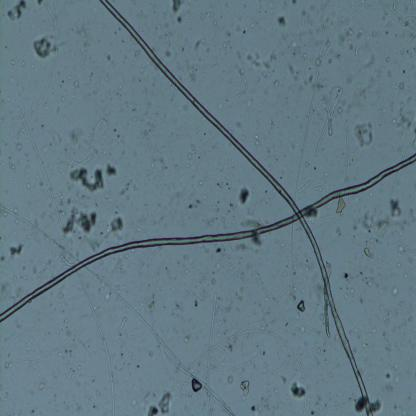Air bubble: (191, 380, 203, 394)
Background material: (63, 207, 100, 235), (69, 168, 106, 192), (145, 389, 174, 416), (361, 211, 390, 238), (398, 102, 416, 142), (248, 52, 280, 72), (353, 120, 375, 148), (33, 33, 57, 58), (319, 229, 341, 252), (315, 394, 335, 416), (6, 6, 30, 23), (77, 25, 90, 56), (65, 126, 83, 148), (356, 395, 380, 411), (108, 214, 126, 235), (321, 304, 332, 338), (288, 381, 308, 399), (184, 56, 199, 80), (304, 212, 334, 224), (388, 196, 403, 220), (88, 116, 104, 138), (237, 184, 251, 209), (300, 10, 318, 29), (389, 81, 411, 96), (343, 57, 354, 86), (240, 216, 264, 229), (286, 62, 300, 83), (161, 33, 171, 62), (239, 378, 252, 400), (192, 36, 208, 52), (276, 11, 290, 29), (0, 277, 11, 298), (390, 220, 406, 234), (230, 240, 248, 252), (171, 299, 182, 318), (361, 276, 377, 289), (9, 244, 25, 257), (106, 163, 118, 180), (142, 119, 154, 136), (366, 51, 376, 71), (336, 197, 347, 215), (288, 41, 302, 55), (31, 264, 44, 279), (173, 8, 184, 25), (62, 316, 70, 338), (178, 251, 191, 264), (380, 110, 391, 125), (54, 188, 65, 203), (252, 236, 265, 248), (362, 245, 372, 260), (398, 242, 408, 257), (147, 298, 157, 313), (390, 282, 400, 297), (62, 366, 74, 378), (278, 371, 288, 385), (208, 12, 218, 26), (407, 207, 416, 222), (105, 52, 116, 64), (335, 34, 346, 46), (304, 73, 314, 86), (189, 200, 202, 210), (233, 48, 242, 62), (28, 78, 39, 89), (247, 402, 257, 414), (380, 0, 392, 10), (180, 332, 190, 344), (195, 272, 205, 284), (325, 260, 332, 276), (334, 48, 342, 62), (398, 43, 405, 59), (213, 100, 222, 112), (368, 236, 380, 245), (357, 27, 365, 39), (226, 373, 234, 385), (345, 26, 353, 38), (297, 299, 304, 312), (287, 141, 296, 151), (384, 384, 394, 393), (371, 30, 382, 38), (203, 220, 214, 228), (62, 348, 73, 356), (9, 57, 17, 68), (268, 117, 275, 129), (306, 259, 313, 271), (301, 50, 309, 60), (350, 392, 358, 402), (356, 267, 364, 277), (344, 270, 350, 283), (337, 105, 344, 116), (408, 49, 414, 61), (242, 25, 250, 34), (289, 292, 298, 300), (293, 264, 299, 276), (236, 115, 242, 127), (66, 192, 72, 204), (314, 344, 321, 354), (4, 363, 14, 370), (210, 276, 217, 286), (18, 273, 28, 280), (273, 78, 279, 89), (35, 0, 43, 8), (384, 344, 392, 352), (382, 314, 390, 322), (377, 302, 384, 311), (401, 66, 408, 75), (182, 268, 191, 275), (348, 38, 353, 50), (227, 342, 233, 352), (385, 370, 391, 380), (246, 98, 252, 108), (139, 65, 145, 75), (402, 271, 408, 281), (129, 106, 137, 113), (407, 316, 414, 324), (298, 325, 305, 333), (9, 164, 17, 171), (236, 23, 242, 32), (358, 297, 364, 306), (53, 397, 59, 406), (216, 206, 222, 215), (74, 80, 80, 89), (365, 373, 371, 382), (46, 260, 52, 269), (16, 143, 22, 152), (38, 381, 44, 390), (254, 134, 258, 147), (382, 14, 387, 24), (88, 68, 93, 78), (222, 41, 227, 51), (310, 408, 316, 416), (58, 289, 64, 297), (200, 13, 206, 21), (319, 93, 325, 101), (29, 62, 35, 70), (260, 347, 266, 355), (193, 300, 199, 308), (35, 173, 41, 181), (216, 248, 222, 256), (26, 344, 32, 352), (12, 272, 18, 280), (134, 49, 139, 58), (103, 73, 108, 82), (5, 129, 10, 138), (394, 373, 398, 384), (396, 262, 402, 269), (66, 73, 71, 81), (244, 280, 249, 288), (22, 263, 27, 271), (382, 331, 387, 339), (216, 263, 221, 271), (65, 404, 70, 412), (90, 375, 95, 383), (59, 166, 64, 174), (324, 358, 330, 364), (118, 80, 122, 89), (228, 202, 234, 208), (198, 180, 204, 186), (393, 402, 397, 411), (364, 342, 370, 348), (139, 260, 145, 266), (0, 256, 6, 262), (353, 223, 358, 230), (13, 207, 18, 214), (113, 126, 117, 134), (134, 398, 138, 406), (21, 60, 25, 68), (42, 123, 46, 131), (324, 170, 328, 178), (259, 404, 263, 412), (388, 70, 392, 78), (120, 350, 124, 358), (117, 332, 121, 340), (291, 0, 297, 5), (69, 94, 75, 99), (263, 218, 269, 223), (202, 194, 207, 200), (227, 33, 233, 38), (354, 327, 359, 333), (3, 394, 9, 399), (26, 183, 32, 188), (392, 118, 396, 125), (116, 134, 121, 139), (62, 96, 66, 102), (305, 160, 309, 166), (344, 294, 348, 300), (346, 246, 350, 252), (328, 58, 332, 64), (280, 175, 284, 181), (250, 22, 254, 28), (90, 405, 96, 409), (284, 322, 288, 328), (131, 60, 134, 67), (387, 56, 390, 63), (264, 188, 268, 193), (252, 189, 256, 194), (138, 77, 142, 82), (254, 182, 258, 187), (274, 156, 278, 161), (405, 49, 409, 54), (350, 289, 354, 294), (346, 286, 349, 292), (322, 346, 325, 352), (134, 365, 140, 368), (118, 26, 121, 32), (7, 96, 10, 102), (338, 286, 342, 290), (386, 31, 390, 35), (31, 410, 35, 414), (347, 283, 351, 287), (217, 182, 220, 187), (284, 95, 287, 100), (30, 338, 33, 343), (61, 79, 63, 85), (358, 197, 360, 203), (228, 186, 231, 190), (228, 209, 230, 215), (370, 192, 373, 196), (364, 240, 368, 243), (28, 354, 30, 360), (114, 31, 116, 36), (217, 200, 219, 205), (373, 329, 375, 334), (267, 150, 270, 153), (314, 166, 316, 170), (226, 182, 228, 186), (49, 142, 51, 146), (368, 230, 370, 234), (353, 234, 355, 237), (352, 159, 354, 161)
Glass filter fibre: (119, 292, 230, 412), (193, 333, 307, 416), (14, 110, 70, 254), (296, 2, 334, 182), (79, 280, 118, 416), (0, 204, 75, 260), (8, 58, 60, 122), (314, 85, 343, 158), (206, 291, 215, 416), (259, 291, 287, 325), (185, 133, 220, 157), (344, 120, 352, 188), (233, 64, 248, 100), (400, 12, 416, 43), (44, 0, 58, 34), (69, 150, 99, 165), (403, 134, 416, 162), (13, 123, 30, 141), (183, 285, 200, 302), (58, 252, 73, 271), (146, 245, 163, 261), (393, 170, 402, 191), (344, 314, 355, 331), (298, 180, 312, 193), (408, 350, 414, 378), (313, 182, 324, 193), (161, 326, 169, 340), (118, 318, 127, 329), (352, 44, 360, 56), (262, 288, 270, 300), (323, 46, 331, 58), (347, 194, 351, 216), (392, 1, 398, 12)
Microfibre: (98, 0, 376, 416), (0, 152, 416, 322)
